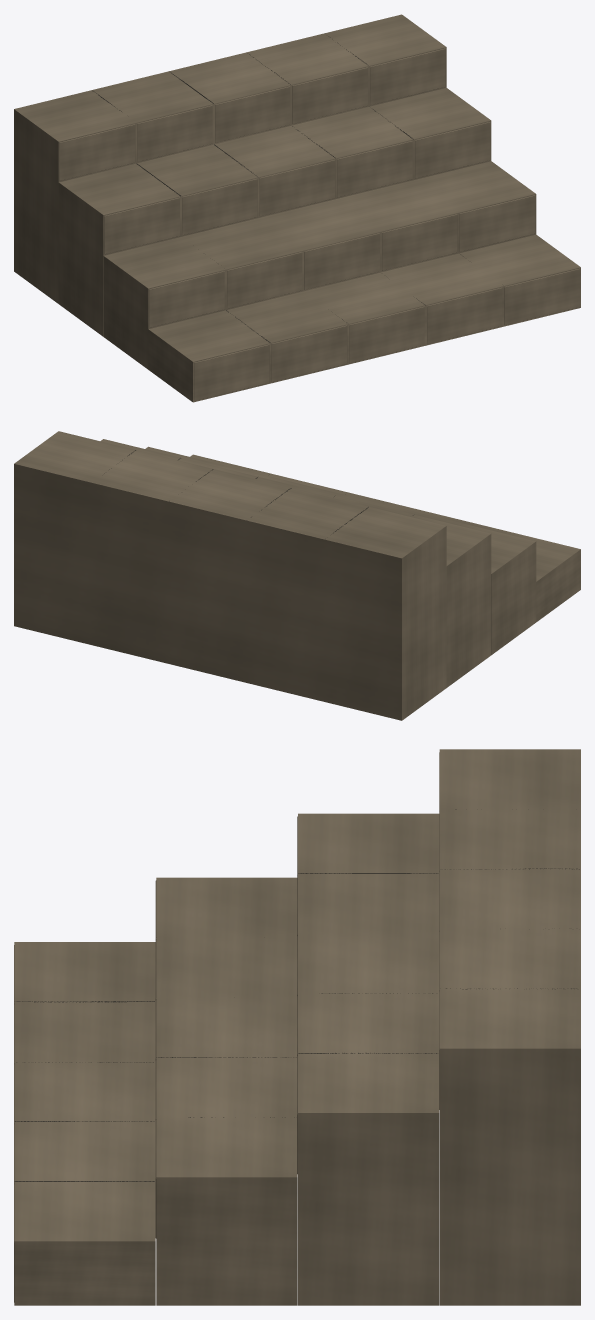
File: arena-stairs.glb
The picture shows the model from 3 angles, top to bottom: view 1: azimuth 30°, elevation 25°; view 2: azimuth 150°, elevation 25°; view 3: azimuth 270°, elevation 25°; orthographic projection. The views are drawn at different scales.
Parts seen in each view (by area): view 1: arena-stairs; view 2: arena-stairs; view 3: arena-stairs.
Boxes of the visible parts, x1,y1,x2,y2 form: arena-stairs: (14, 14, 580, 402); arena-stairs: (14, 431, 580, 720); arena-stairs: (14, 749, 580, 1305).
Size of the model in its own units: 3 by 1.2 by 2.4.
Materials: 1 (1 with a texture image).
